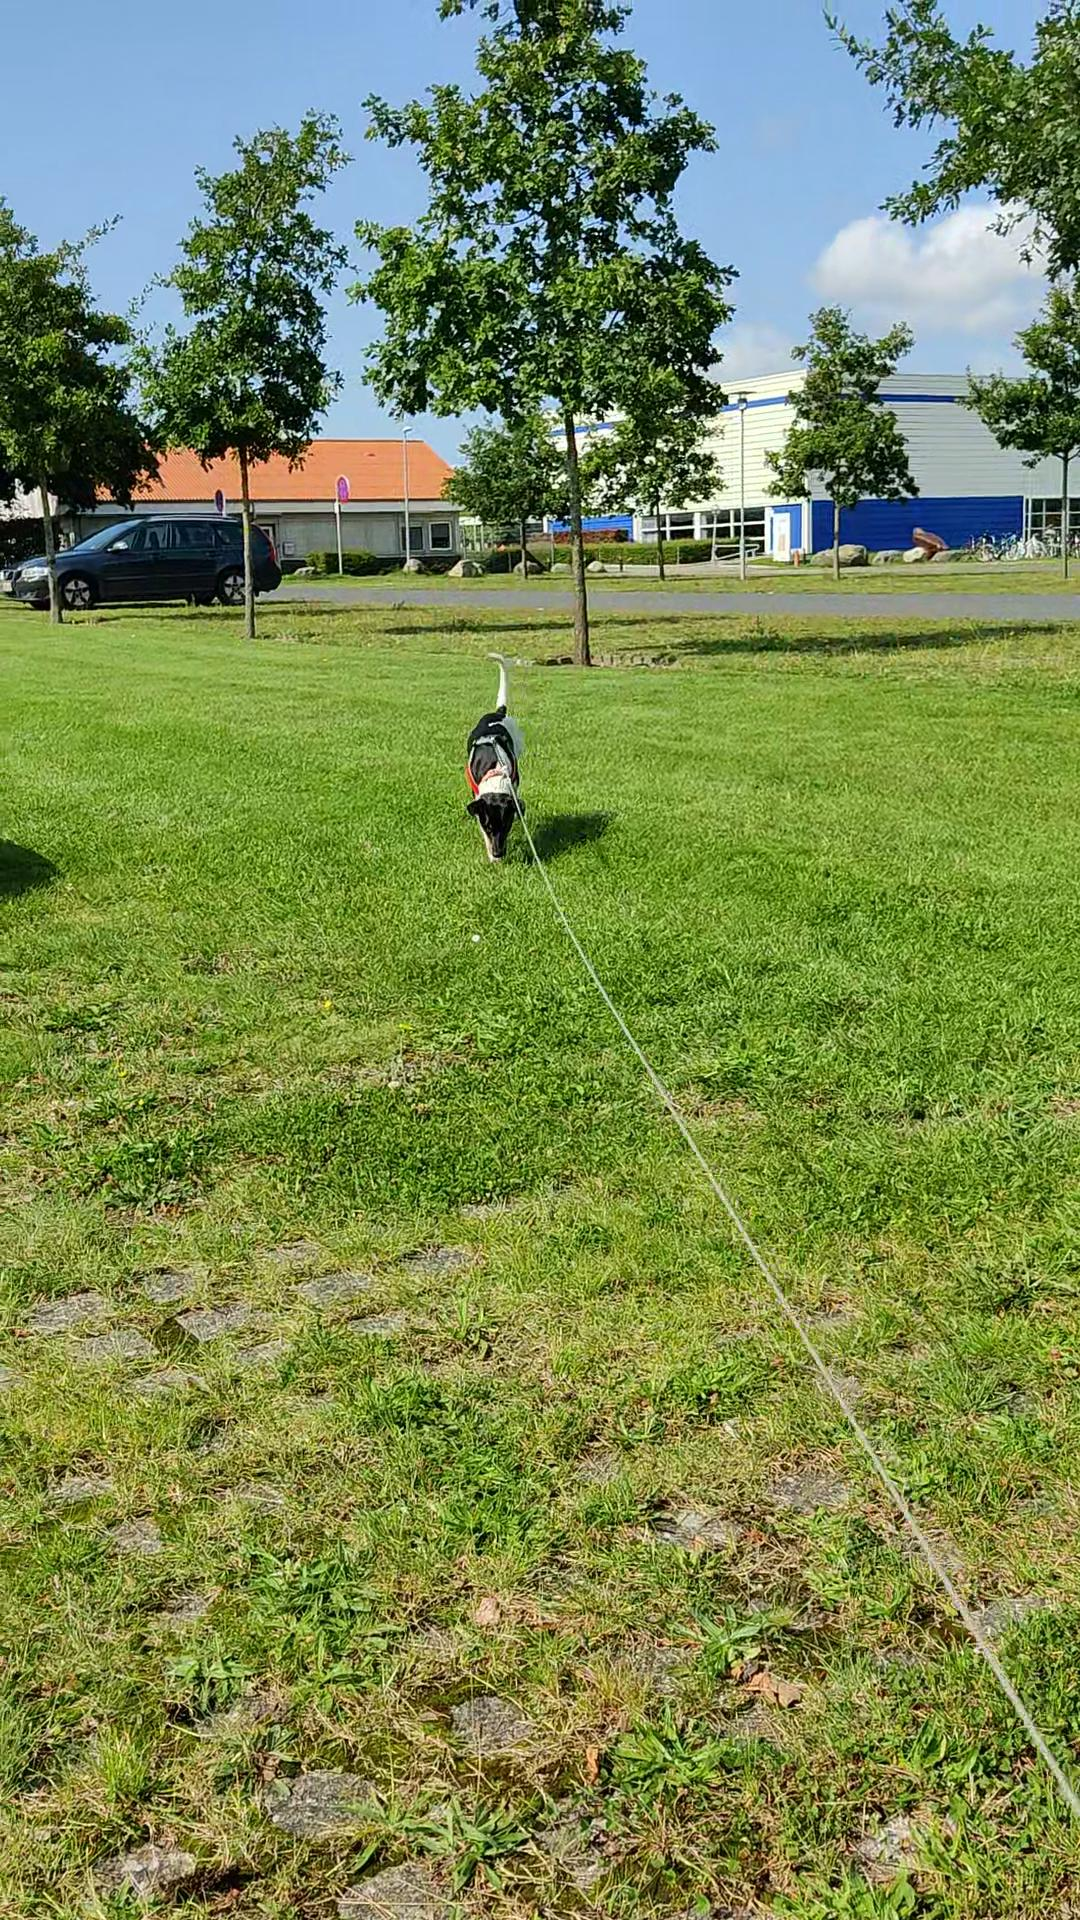Dog: (439, 641, 549, 870)
